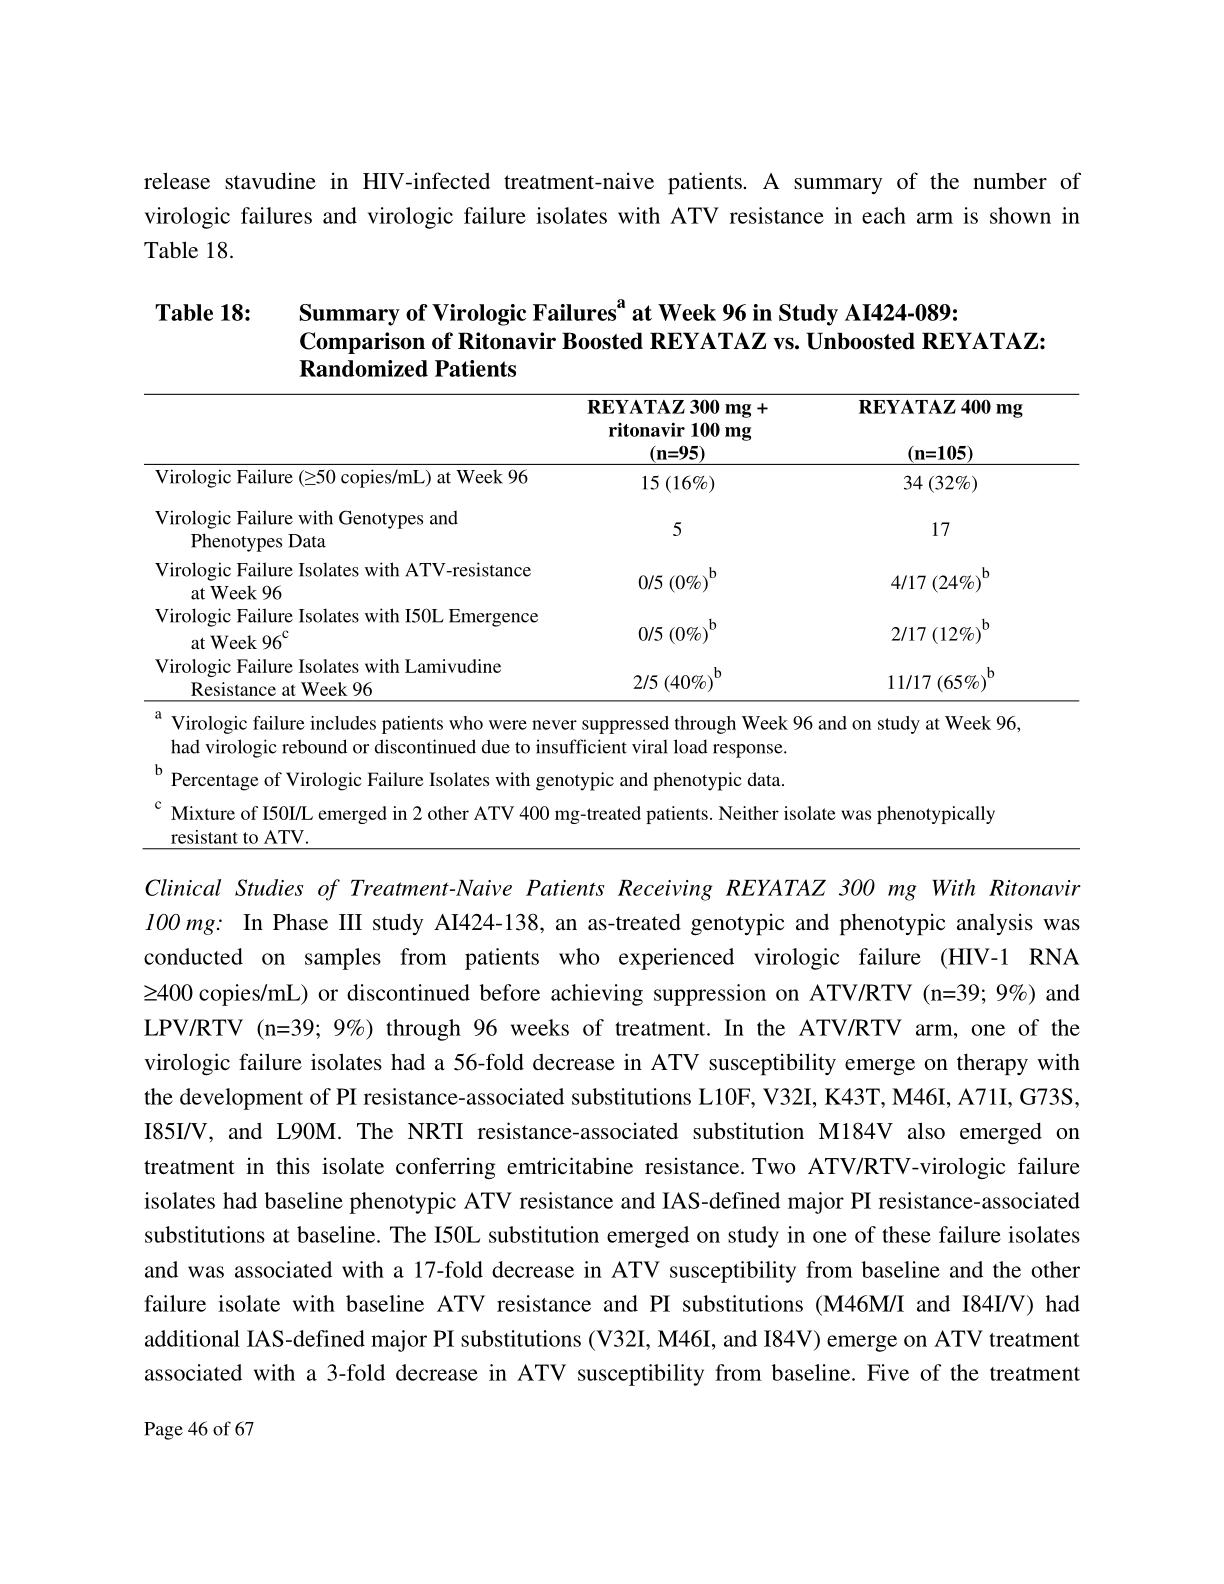partial_lined: (141, 390, 1083, 705)
